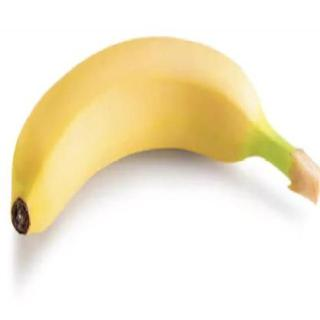banana: (9, 32, 263, 239)
